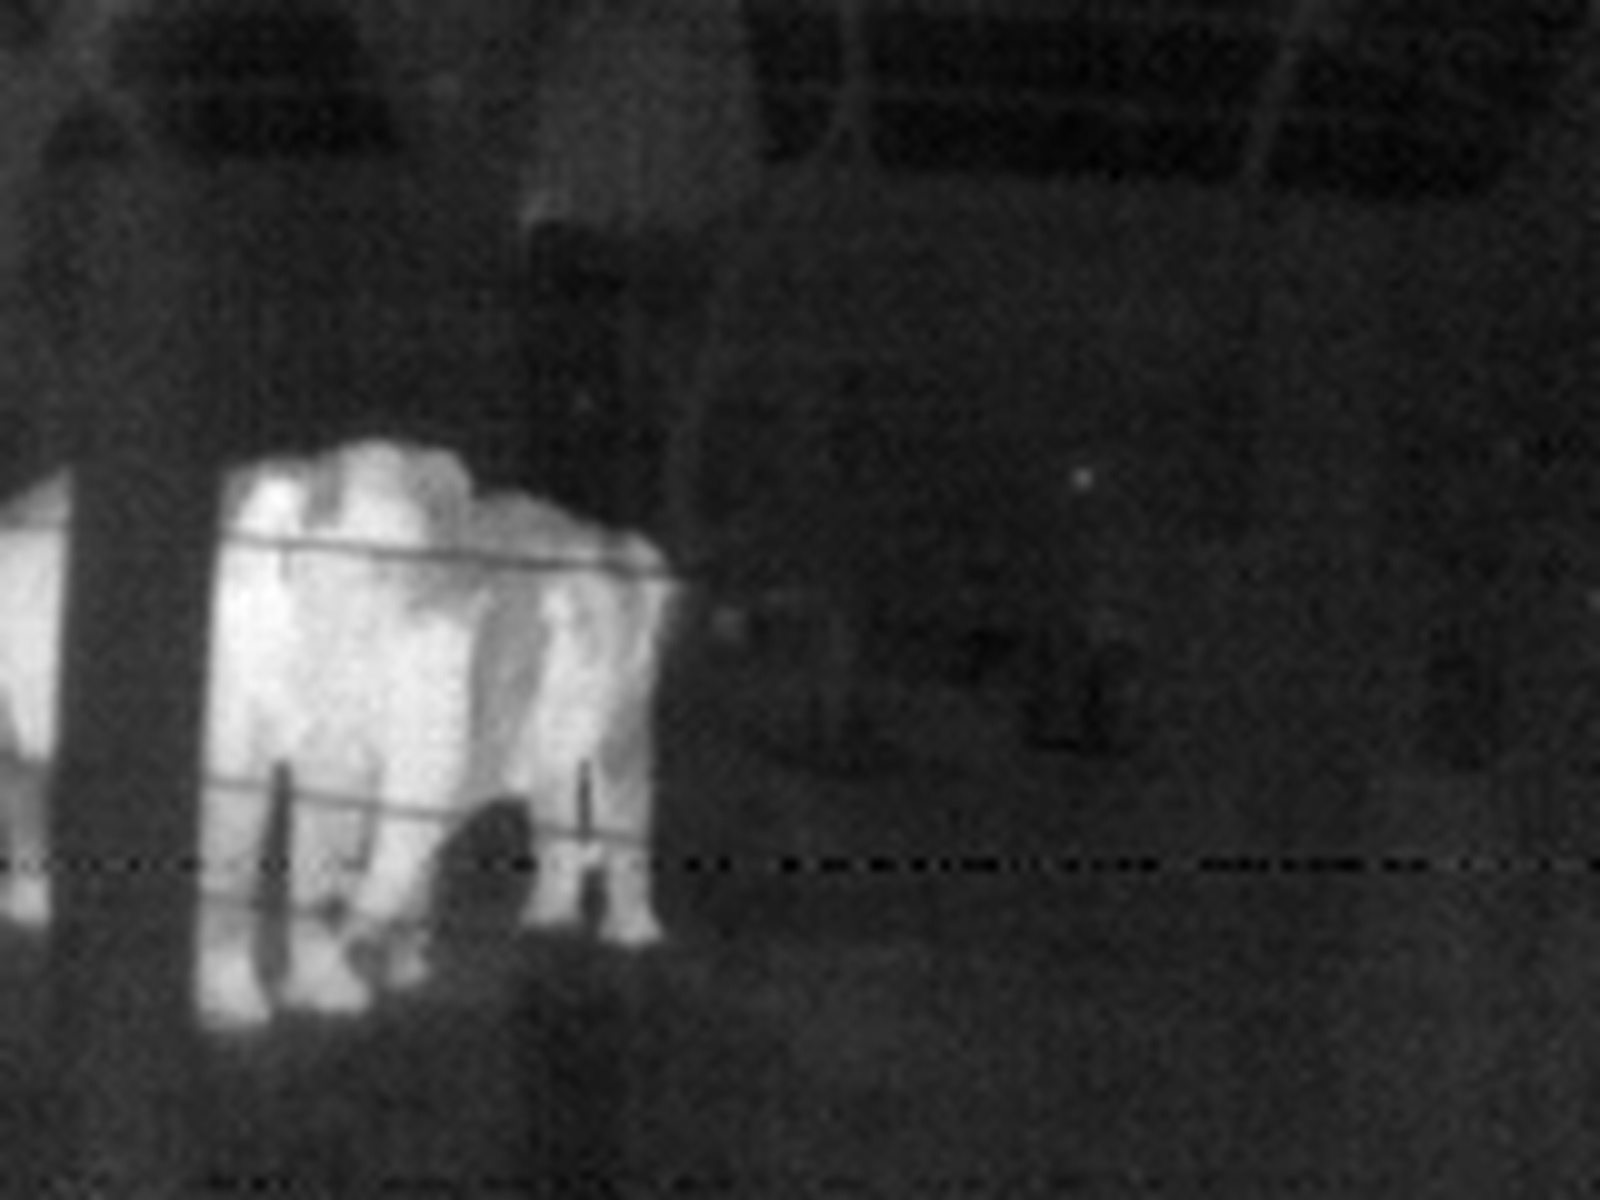elephant: (4, 425, 723, 1047)
